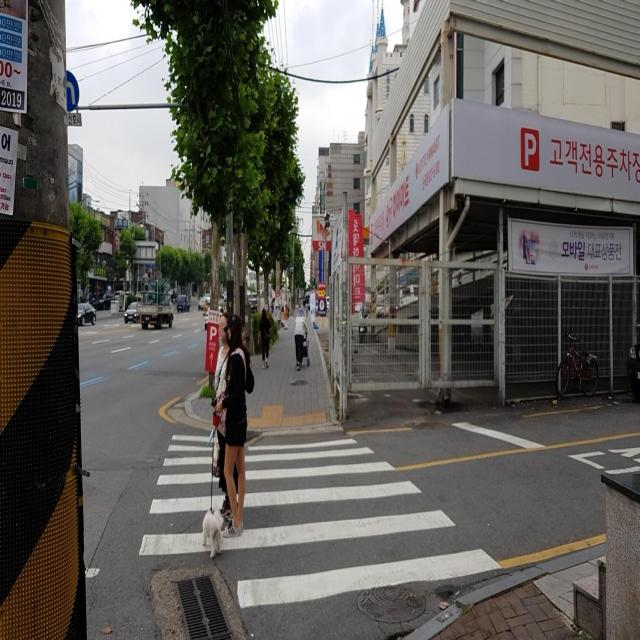횡단보도: (136, 432, 504, 611)
